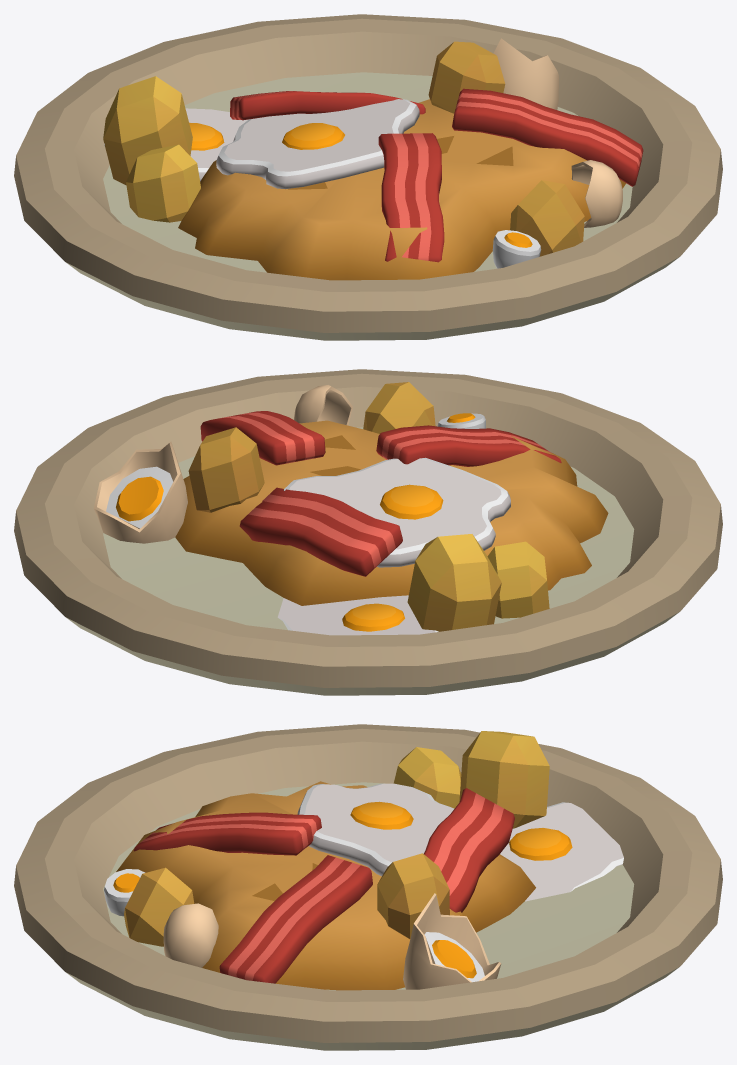
File: Dish_5_LV_4.glb
3 views of the same model, one above another, from view 1: azimuth 30°, elevation 25°; view 2: azimuth 150°, elevation 25°; view 3: azimuth 270°, elevation 25° (orthographic).
Visible parts, largest first — view 1: Dish_5_LV_4; view 2: Dish_5_LV_4; view 3: Dish_5_LV_4.
Boxes of the visible parts, box(x1,y1,x2,y2) form: Dish_5_LV_4: box(14, 14, 722, 340); Dish_5_LV_4: box(14, 369, 722, 695); Dish_5_LV_4: box(14, 724, 722, 1050).
Size of the model in its own units: 0.4937 by 0.1077 by 0.4943.
1 material, 1 textured.
